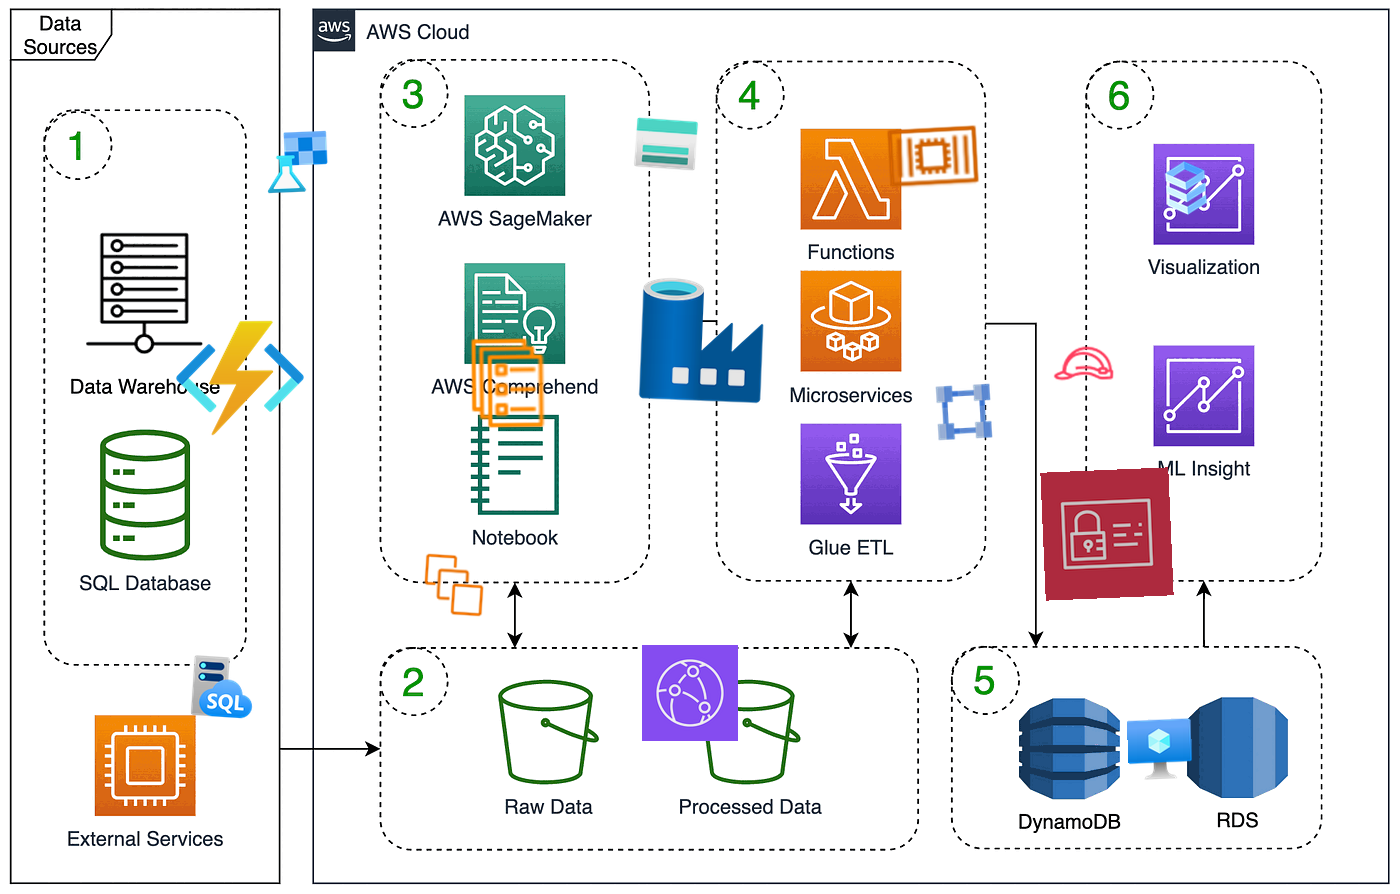aws_amazon_cloudfront: (641, 644, 739, 742)
aws_ec2_instances: (419, 550, 489, 620)
aws_elastic_container_service_container_2: (882, 105, 984, 207)
aws_elastic_container_service_service: (459, 334, 557, 432)
aws_identity_access_management_role: (1050, 330, 1118, 398)
aws_identity_and_access_management: (1040, 467, 1174, 601)
azure_data_factories: (635, 274, 769, 407)
azure_function_apps: (176, 313, 305, 443)
azure_machine_learning_studio_workspaces: (263, 128, 331, 196)
azure_sql_managed_instance: (188, 652, 258, 722)
azure_storage_accounts: (631, 109, 701, 179)
azure_virtual_machine: (1126, 717, 1194, 785)
gcp_cloud_sql: (1151, 153, 1221, 224)
gcp_virtual_private_cloud: (930, 378, 998, 446)
